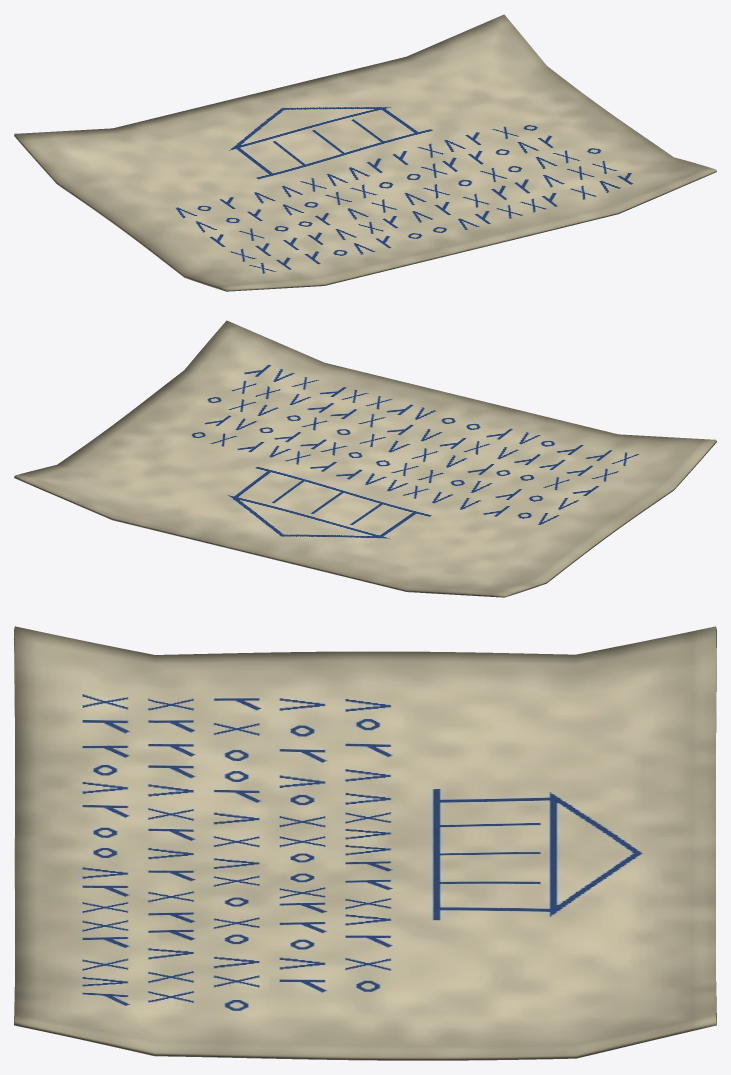
Rendered from tempelabschrift.glb.
3 views of the same model, one above another, from view 1: azimuth 30°, elevation 25°; view 2: azimuth 150°, elevation 25°; view 3: azimuth 270°, elevation 25° (orthographic). The views are drawn at different scales.
Parts seen in each view (by area): view 1: blatt; view 2: blatt; view 3: blatt.
Boxes of the visible parts, bbox=[...] form: blatt: bbox=[14, 14, 716, 291]; blatt: bbox=[14, 320, 716, 597]; blatt: bbox=[14, 626, 716, 1060].
Bounding box in the file's own units: 0.3205 × 0.015 × 0.2407.
1 material, 1 textured.
